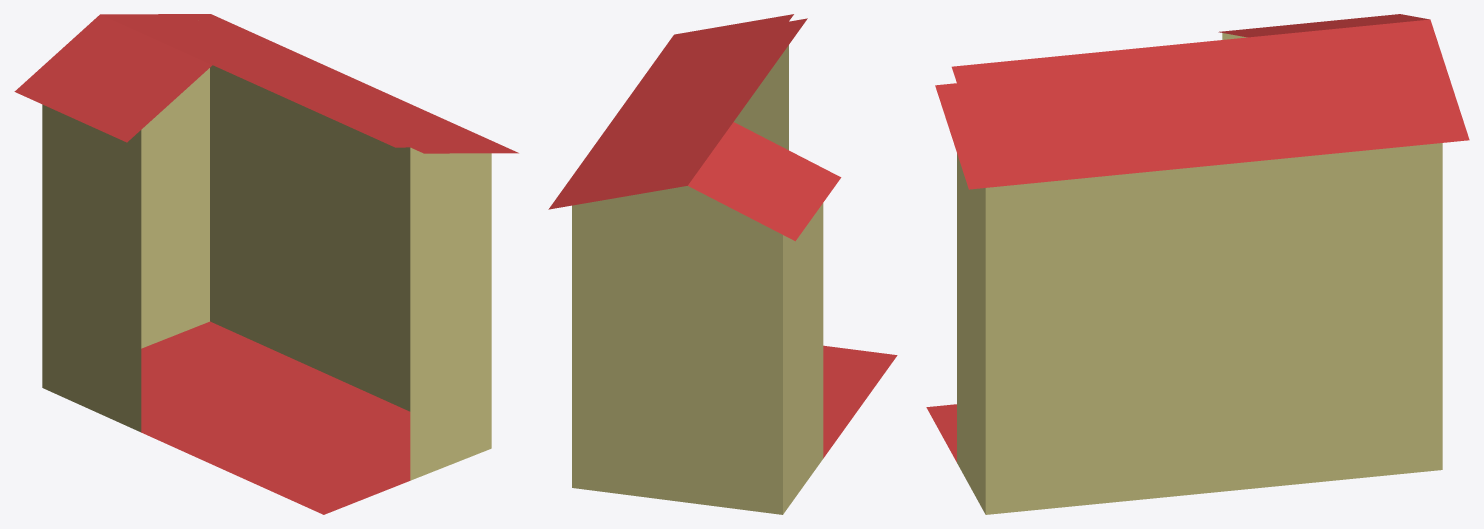
3 views of the same model, side by side, from view 1: azimuth 30°, elevation 25°; view 2: azimuth 150°, elevation 25°; view 3: azimuth 270°, elevation 25° (orthographic). The views are drawn at different scales.
Bounding box in the file's own units: 9.24 × 12.09 × 9.49.
